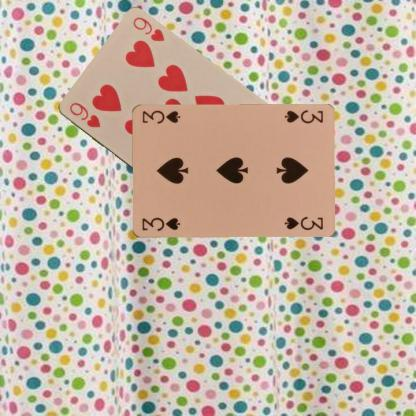3s: (140, 215, 182, 233), (282, 107, 324, 125)
9h: (66, 100, 102, 130)
